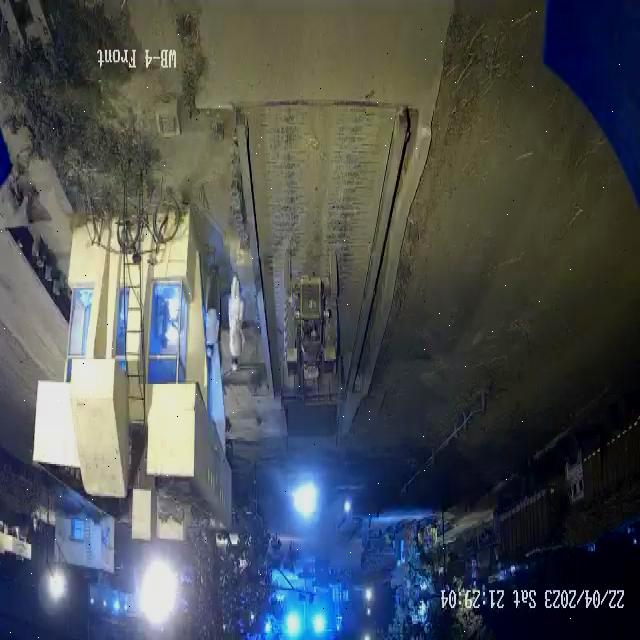Tratores - v5 YOLO V8L 2024-11-13: (274, 224, 346, 374)
